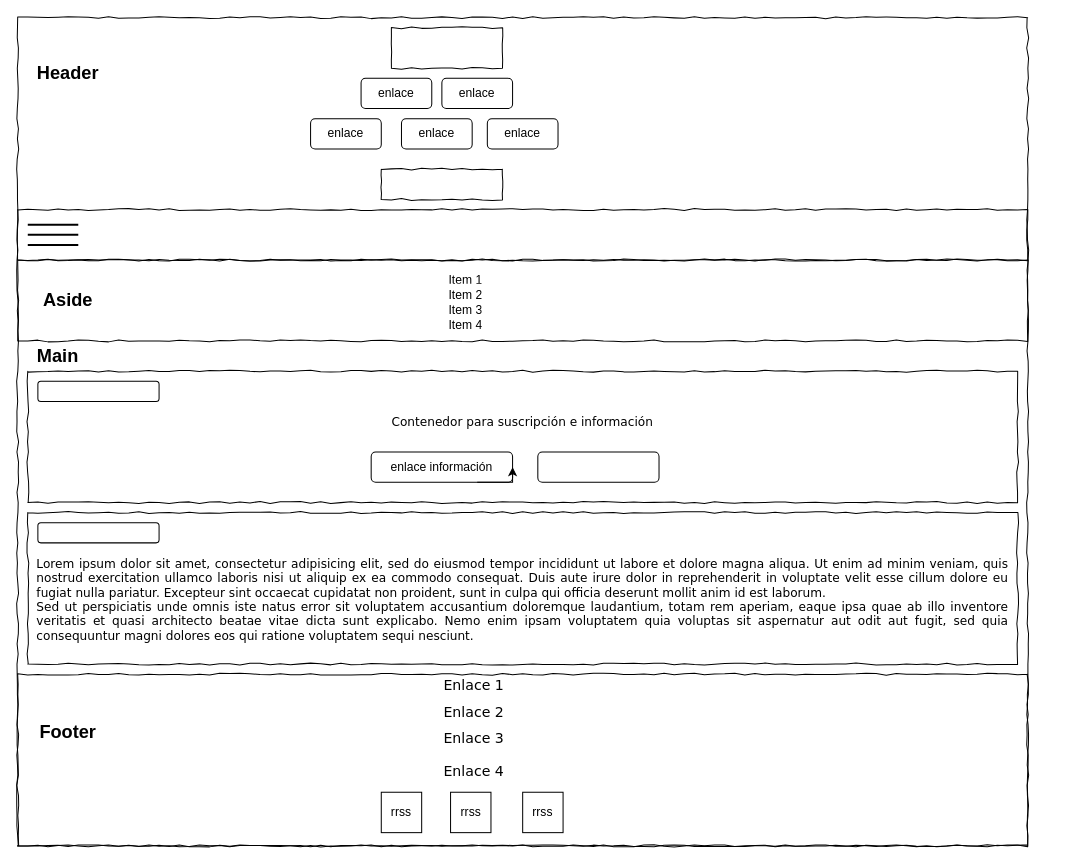
Some shapes in this 1086 by 864 pixel diagram are drawn without their labels. The shapes that lost their labels are listed below. From the top down, each one's centre as x and y in pixels, then its label:
At point 446,47: "LOGO".
At point 441,183: "login".
At point 522,234: "Nav".
At point 98,390: "artículo 1".
At point 598,466: "enlace contacto".
At point 98,532: "artículo 2".
